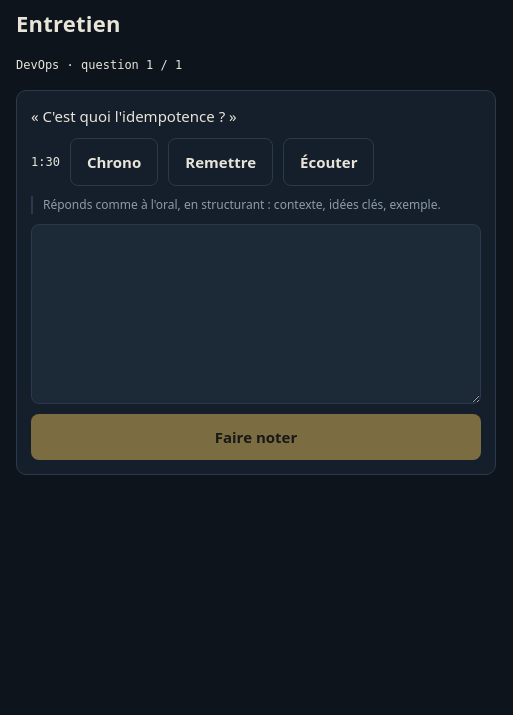
Test case: affiche score, mode, idées oubliées et réponse modèle
Expected: the text "« C'est quoi l'idempotence ? »" is shown, [31, 106, 237, 126]
Type "Relancer plusieurs fois donne le même état final." into the text box named "Ta réponse". click: (256, 314)
box: [31, 224, 481, 404]
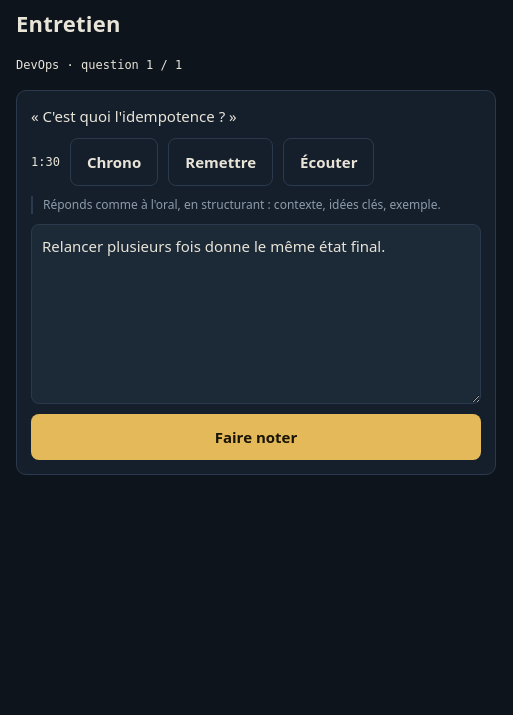
Click the button "Faire noter". click: (256, 437)
box: [31, 414, 481, 460]
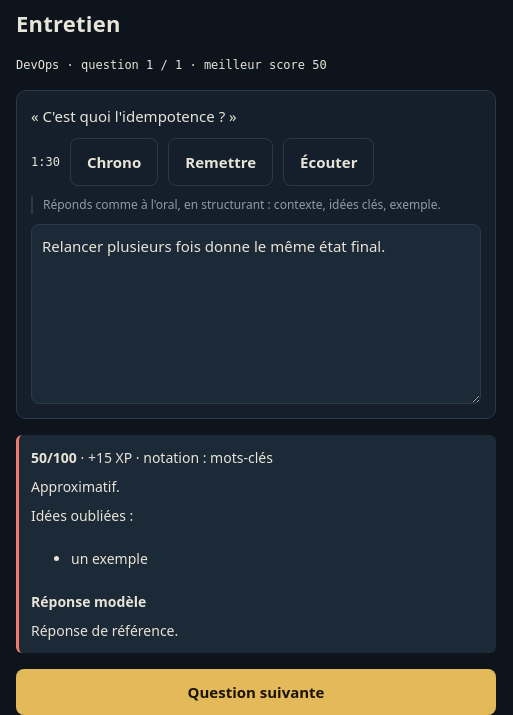
Result: the text "50/100" is shown at [31, 448, 77, 466]
Result: the text "50/100 · +15 XP · notation : mots-clés" is shown at [31, 448, 273, 466]
Result: the list item "un exemple" is shown at [71, 548, 148, 568]
